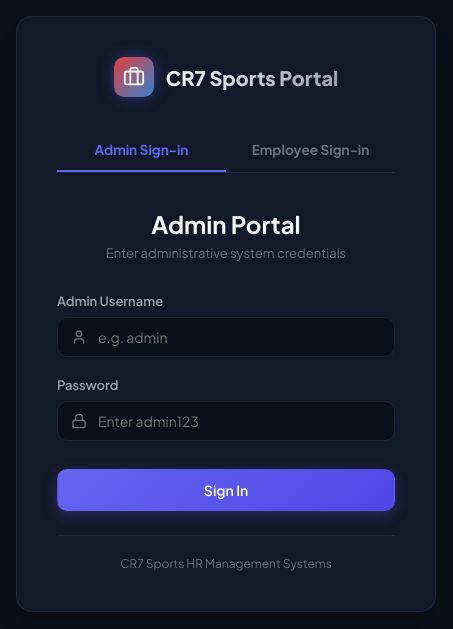
Test: LoginPage › switches to Employee Portal heading when employee tab is clicked
This screenshot has width=453, height=629.
What coordinates should you click on to do the following:
click the button "Employee Sign-in"
I would click on:
 (310, 150)
Its box is x1=226 y1=129 x2=395 y2=172.
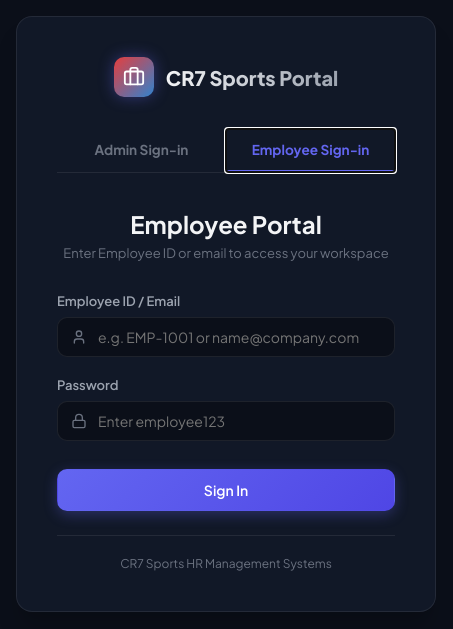
Now the heading "Employee Portal" is shown, box x1=130 y1=209 x2=322 y2=239
